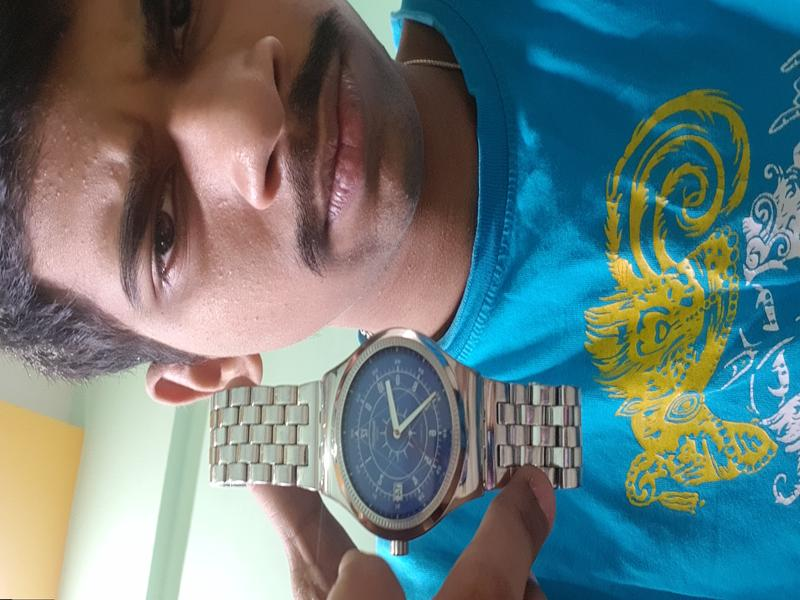watch: (200, 310, 604, 550)
